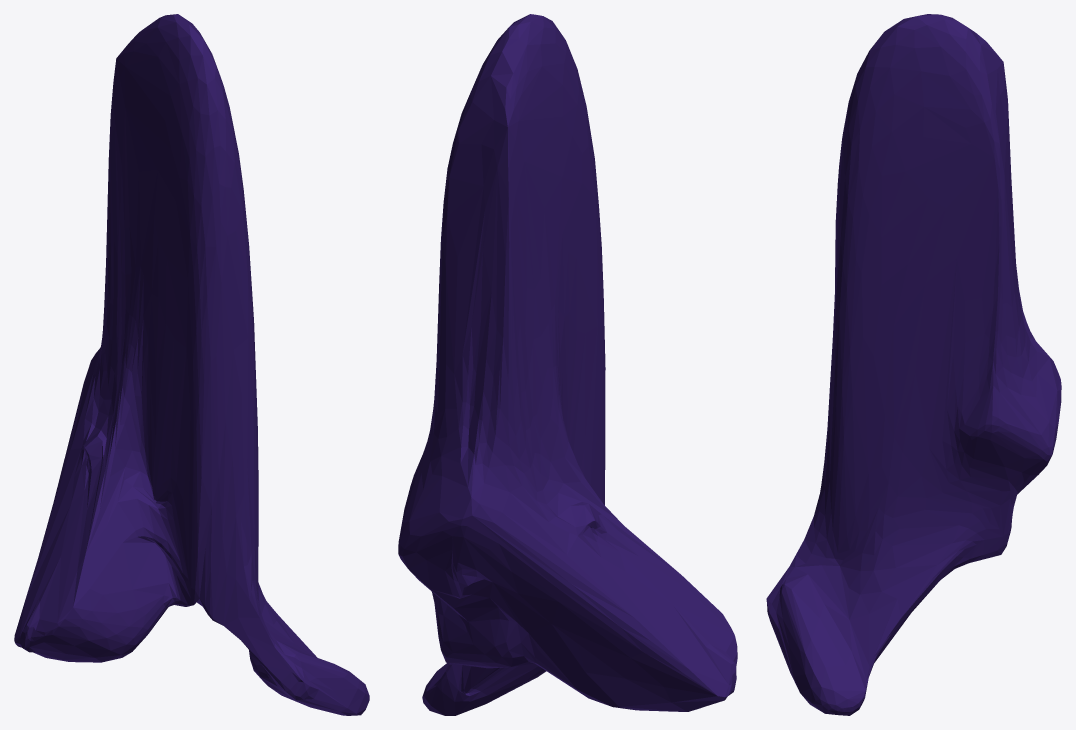
3 renders of one model, left to right at view 1: azimuth 30°, elevation 25°; view 2: azimuth 150°, elevation 25°; view 3: azimuth 270°, elevation 25°, orthographic. The views are drawn at different scales.
Parts seen in each view (by area): view 1: 948_Cube.3835; view 2: 948_Cube.3835; view 3: 948_Cube.3835.
Boxes of the visible parts, left/top/right/bottom form: 948_Cube.3835: left=14, top=14, right=369, bottom=715; 948_Cube.3835: left=398, top=14, right=737, bottom=715; 948_Cube.3835: left=766, top=14, right=1061, bottom=715.
Bounding box in the file's own units: 6.45 × 13.64 × 5.67.
